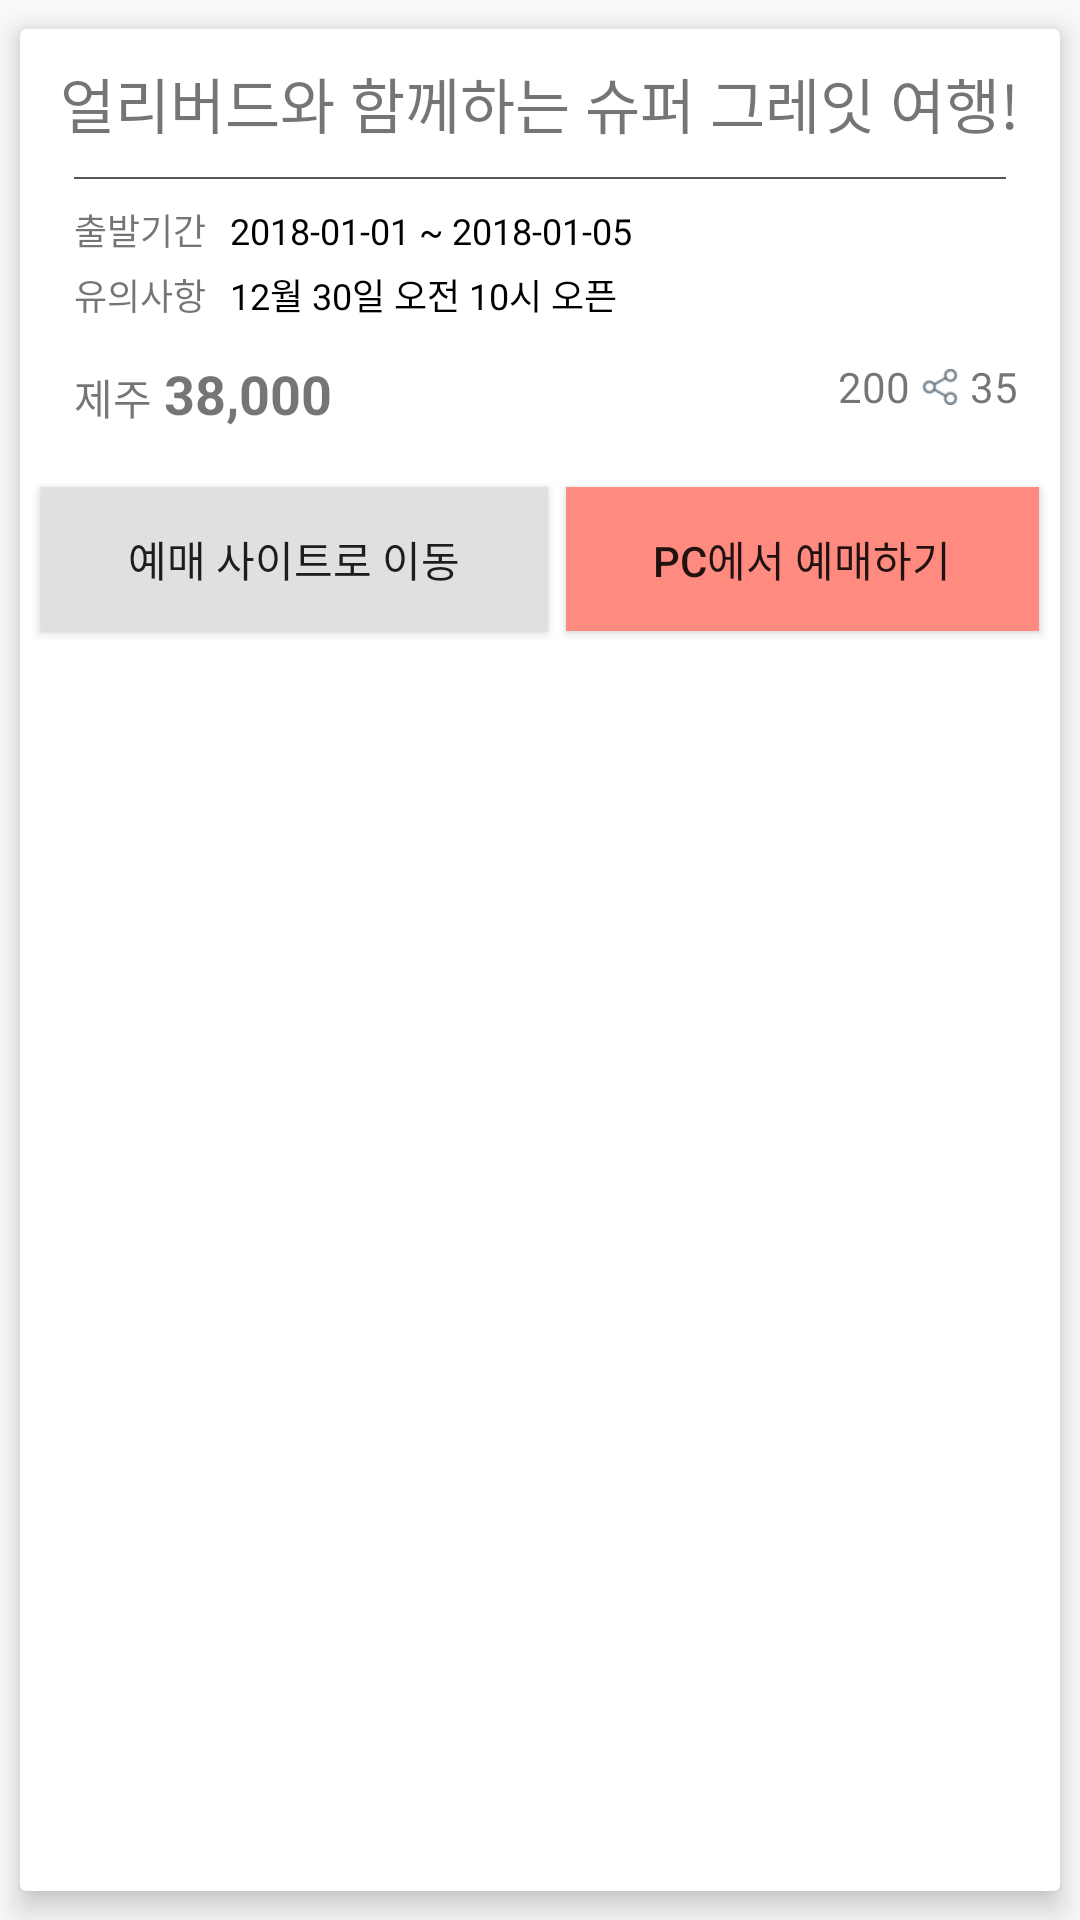

Named icons in this screenshot (1080×1920) and their bounding boxes, (x1, y1, x2, y2):
share: (922, 369, 958, 405)
